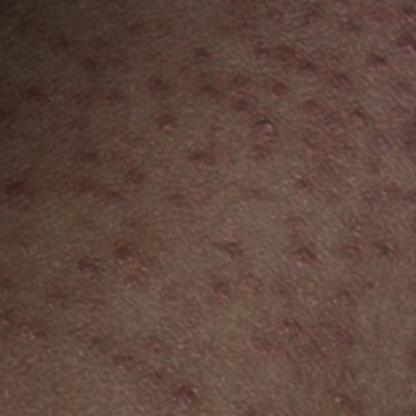Chicken Skin: (0, 0, 391, 304)
